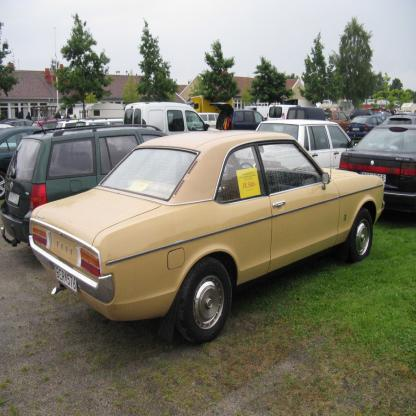Car: (1, 108, 416, 348)
